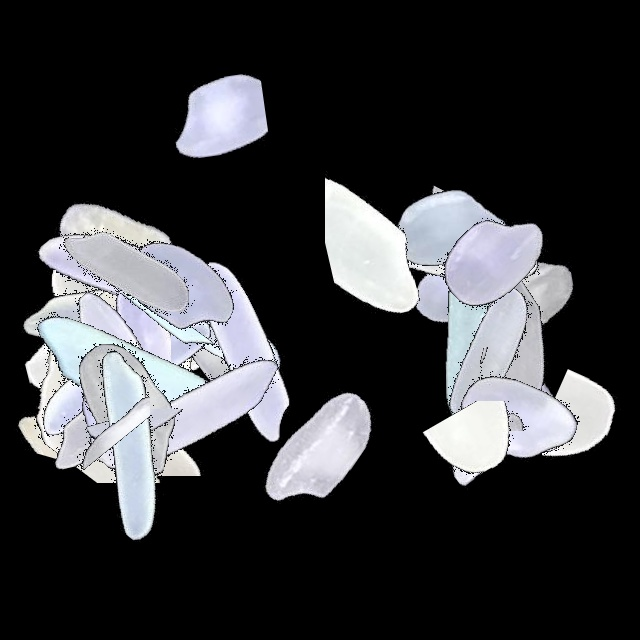Broken: (326, 236, 576, 407), (379, 105, 549, 355), (57, 39, 307, 205), (324, 189, 574, 352), (0, 323, 250, 483), (0, 385, 250, 539), (0, 305, 152, 555), (325, 109, 468, 359), (0, 334, 250, 476), (36, 238, 171, 488), (374, 130, 497, 380), (0, 293, 250, 410), (34, 308, 284, 420), (29, 409, 279, 517), (46, 266, 150, 516), (362, 401, 612, 493), (0, 372, 250, 462), (542, 308, 624, 558), (390, 347, 640, 426), (390, 356, 640, 431)
Full: (0, 183, 250, 433), (0, 218, 250, 468), (384, 181, 634, 431), (320, 128, 570, 378), (0, 126, 250, 376), (195, 324, 445, 574), (0, 205, 250, 455), (0, 190, 250, 440), (1, 214, 251, 464), (390, 279, 640, 529), (34, 274, 284, 524), (78, 199, 328, 449), (0, 219, 250, 469), (2, 231, 252, 481), (0, 252, 250, 502), (355, 190, 605, 440), (116, 228, 366, 478), (4, 157, 254, 407), (357, 288, 607, 538), (390, 220, 640, 470), (0, 290, 250, 540), (363, 230, 613, 480), (390, 295, 640, 545), (58, 162, 308, 412), (0, 250, 250, 500), (3, 148, 253, 398), (63, 286, 313, 536), (0, 282, 250, 532), (0, 319, 250, 569)
